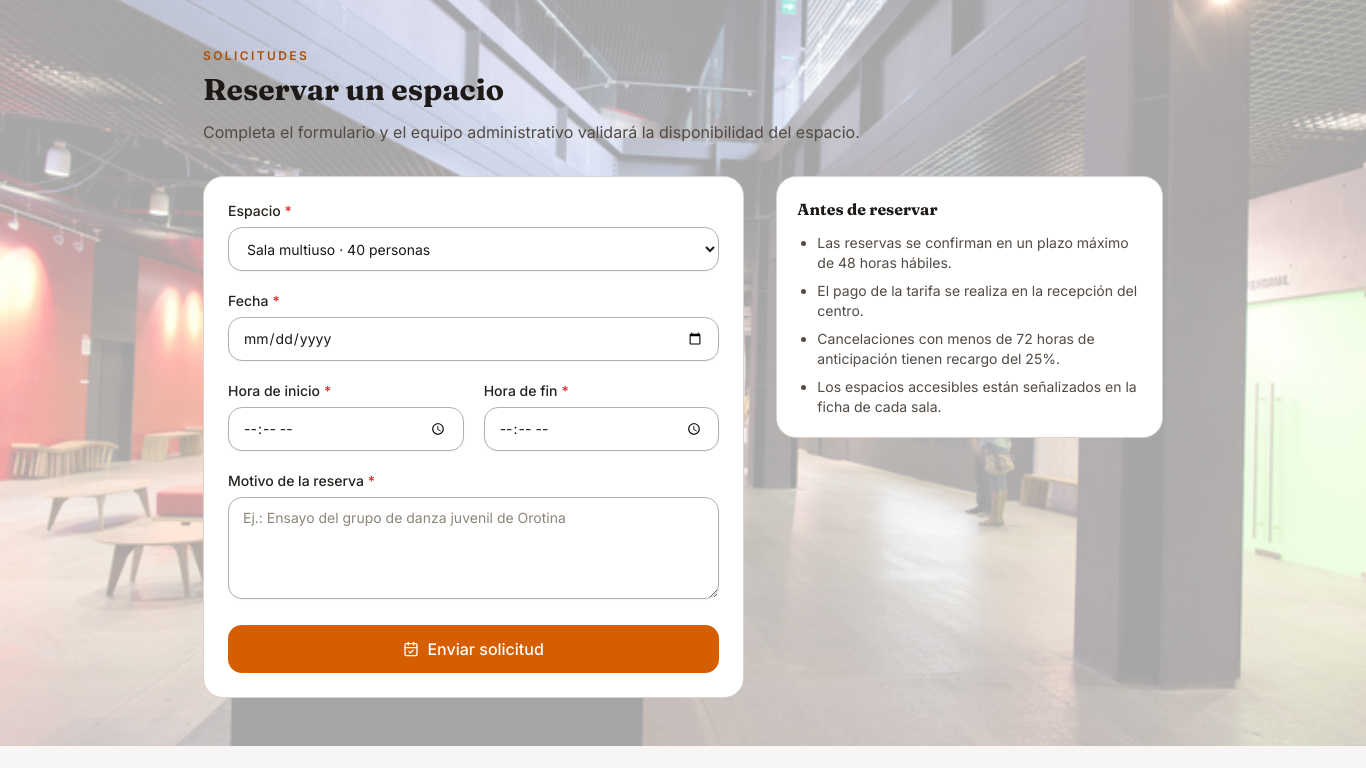
Test: Reservas page › validates the form and explains why submission is blocked
The image size is (1366, 768).
Click the button "Enviar solicitud". click: (474, 649)
box: [228,625,719,673]
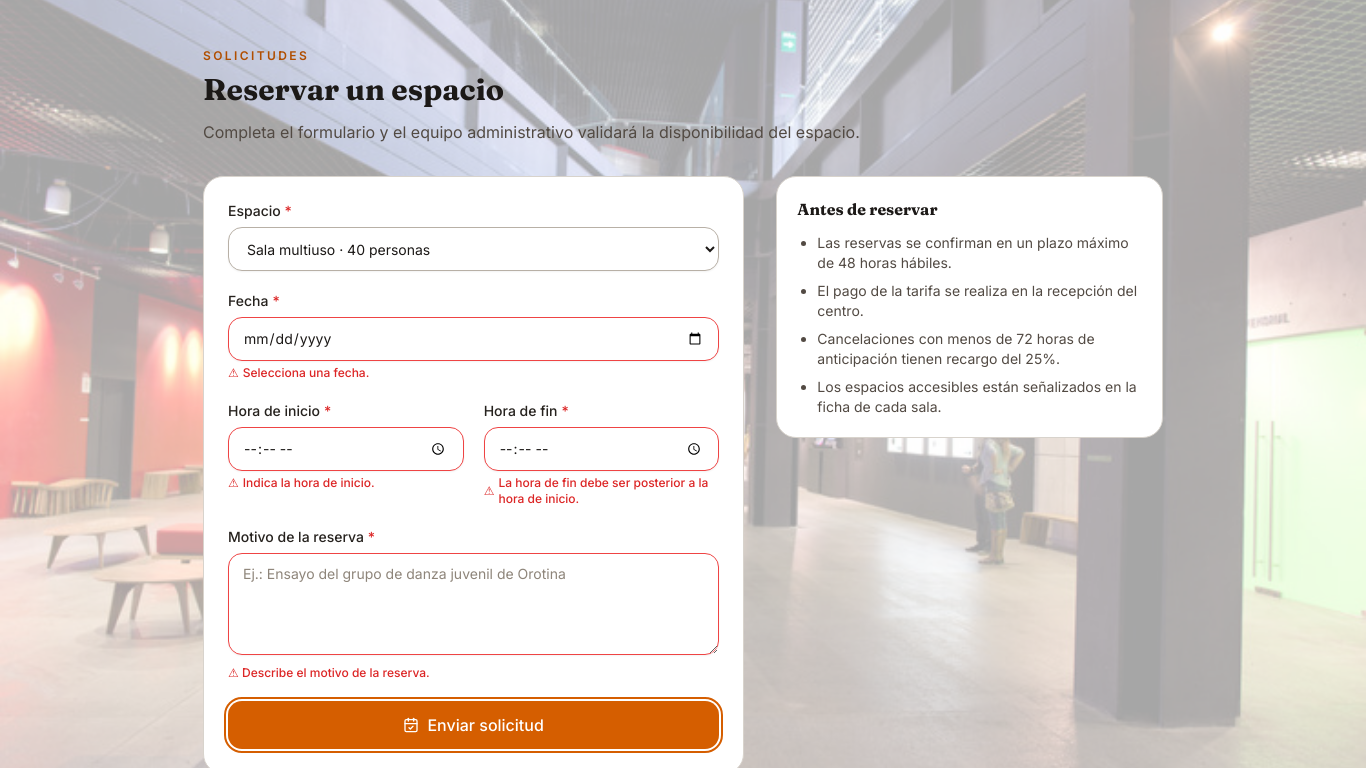
Expected: the message "⚠ Selecciona una fecha." is shown, [228,365,369,380]
